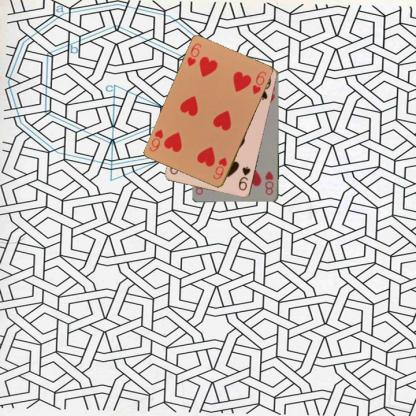6h: (184, 41, 203, 68), (210, 155, 228, 181)
8h: (262, 169, 275, 196)
9s: (236, 164, 252, 192)
